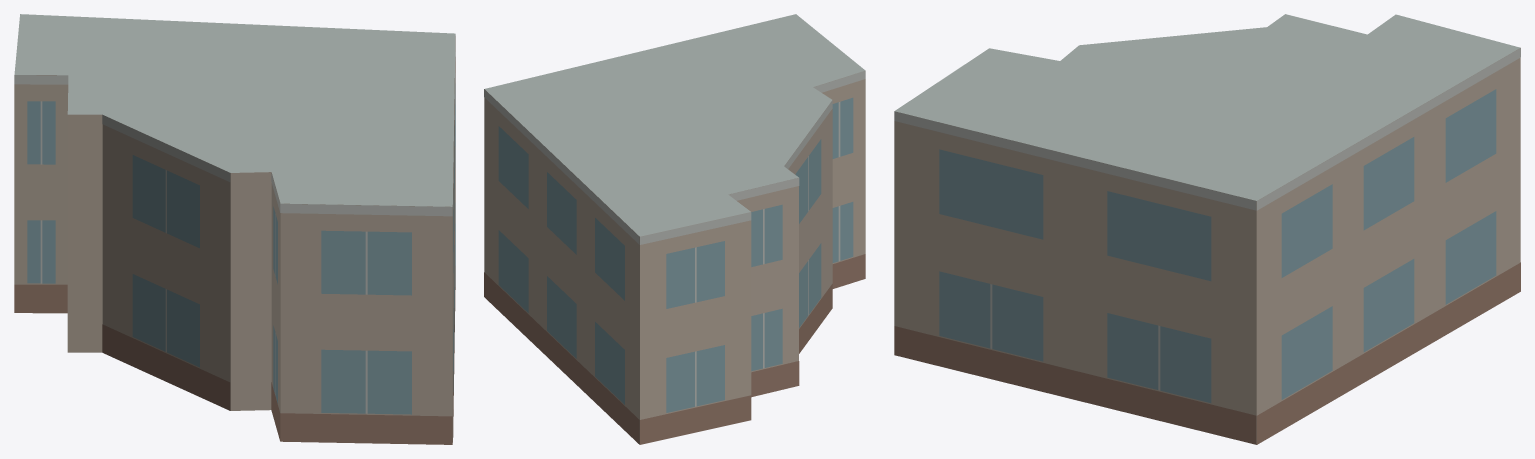
The model's file is survey-upis-32690622.glb.
The picture shows the model from 3 angles, left to right: view 1: azimuth 30°, elevation 25°; view 2: azimuth 150°, elevation 25°; view 3: azimuth 270°, elevation 25°; orthographic projection. The views are drawn at different scales.
Visible parts, largest first — view 1: survey-upis-32690622.tmp; view 2: survey-upis-32690622.tmp; view 3: survey-upis-32690622.tmp.
Part boxes in pixels (x1,y1,x2,y2): survey-upis-32690622.tmp: (14, 14, 455, 444); survey-upis-32690622.tmp: (484, 14, 865, 444); survey-upis-32690622.tmp: (894, 14, 1520, 444).
Bounding box in the file's own units: 10.04 × 6.1 × 14.21.
